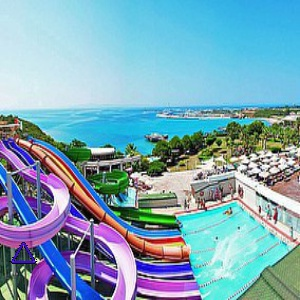triangle: (9, 240, 38, 265)
